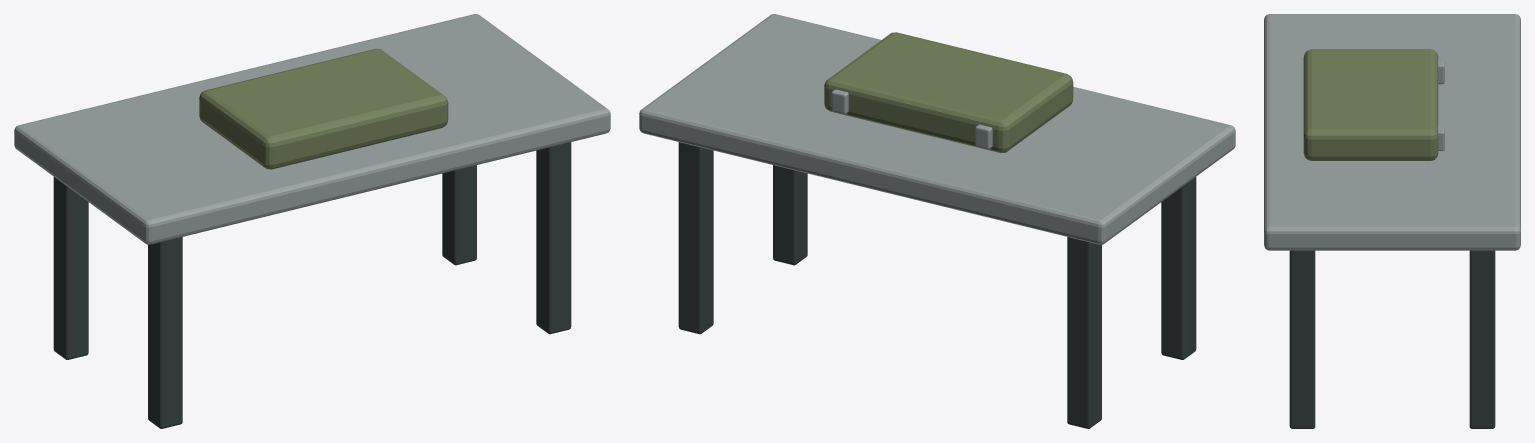
Rendered from archive_table.glb.
The picture shows the model from 3 angles, left to right: view 1: azimuth 30°, elevation 25°; view 2: azimuth 150°, elevation 25°; view 3: azimuth 270°, elevation 25°; orthographic projection. The views are drawn at different scales.
Parts seen in each view (by area): view 1: archive_table; view 2: archive_table; view 3: archive_table.
Boxes of the visible parts, x1,y1,x2,y2 form: archive_table: (14, 14, 610, 428); archive_table: (639, 14, 1235, 428); archive_table: (1264, 14, 1520, 428).
Size of the model in its own units: 2.4 by 1.26 by 1.2.
